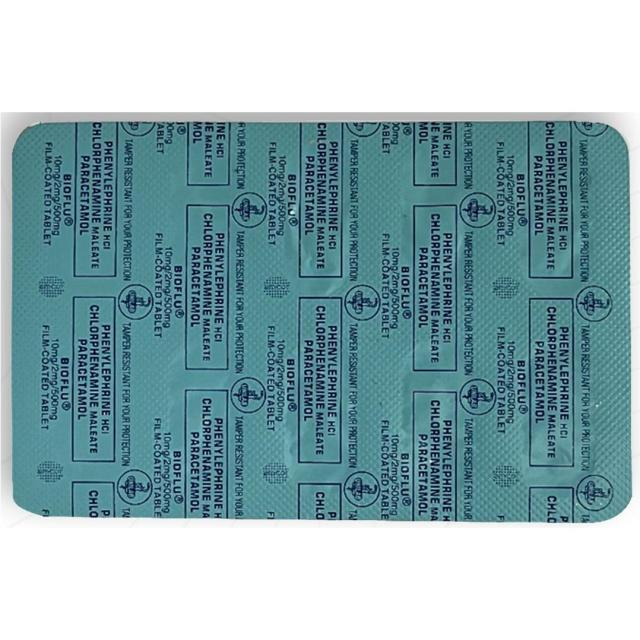blister: (5, 116, 635, 530)
